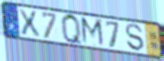7: (41, 11, 59, 41), (104, 20, 121, 50)
M: (80, 16, 107, 49)
Q: (60, 12, 84, 47)
S: (124, 23, 145, 53)
X: (17, 8, 42, 38)
